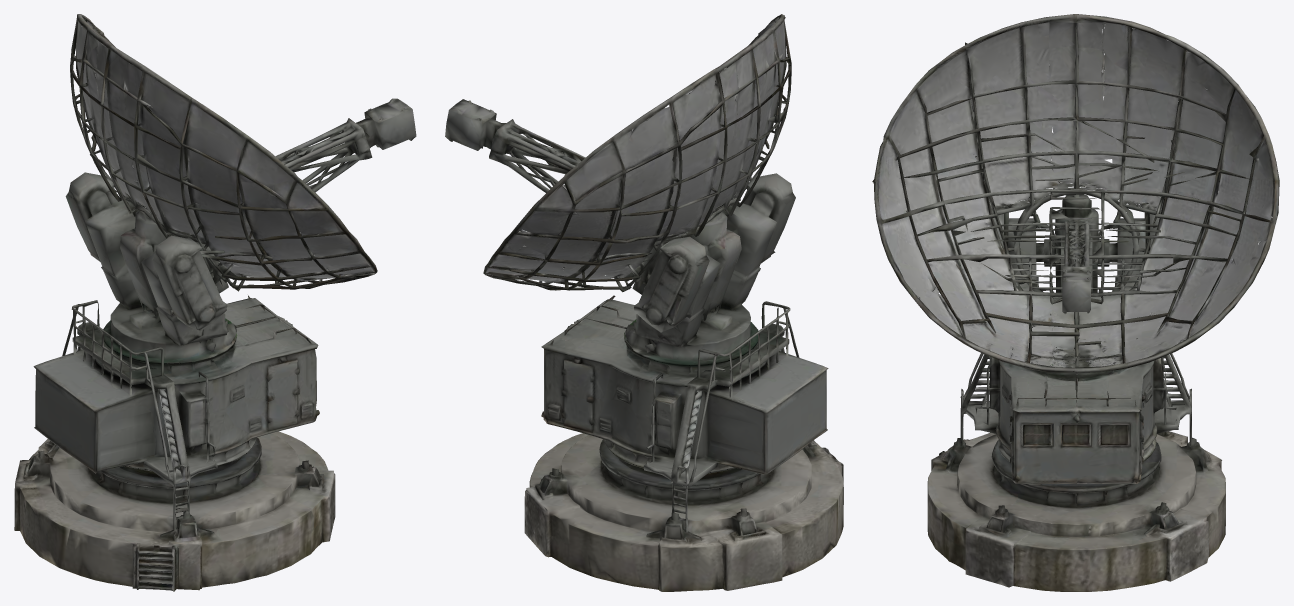
File: prop_radar.glb
The picture shows the model from 3 angles, left to right: view 1: azimuth 30°, elevation 25°; view 2: azimuth 150°, elevation 25°; view 3: azimuth 270°, elevation 25°; orthographic projection. The views are drawn at different scales.
Visible parts, largest first — view 1: tripo_node_ed4f24bc-cd04-4e3f-970c-1985b12225ec; view 2: tripo_node_ed4f24bc-cd04-4e3f-970c-1985b12225ec; view 3: tripo_node_ed4f24bc-cd04-4e3f-970c-1985b12225ec.
Part boxes in pixels (x1,y1,x2,y2): tripo_node_ed4f24bc-cd04-4e3f-970c-1985b12225ec: (14, 14, 416, 591); tripo_node_ed4f24bc-cd04-4e3f-970c-1985b12225ec: (445, 14, 843, 591); tripo_node_ed4f24bc-cd04-4e3f-970c-1985b12225ec: (872, 14, 1279, 591).
Size of the model in its own units: 0.7651 by 0.9794 by 0.7476.
1 material, 1 textured.
